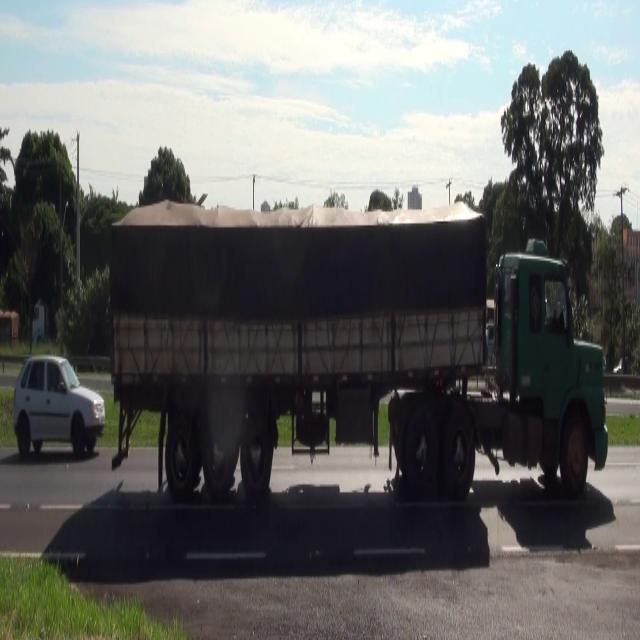-axle: (440, 408, 475, 510), (201, 408, 237, 501), (404, 409, 436, 505), (240, 409, 273, 502), (559, 407, 591, 499), (165, 412, 198, 499)
